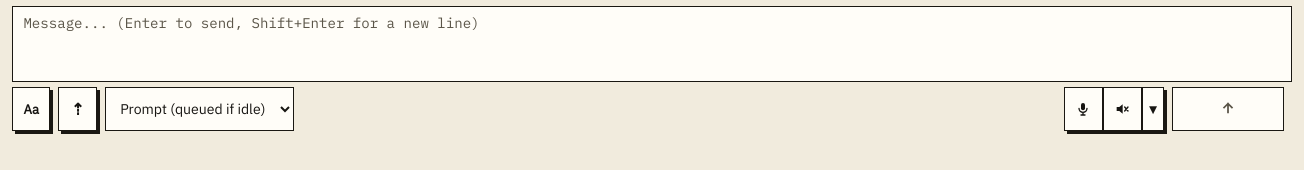
Test case: the mic button › a mid-recording error stops the mic and keeps the text
Press the mouse on the button named "Voice input" at (1083, 109), box top-left (1064, 87), bottom-right (1103, 131)
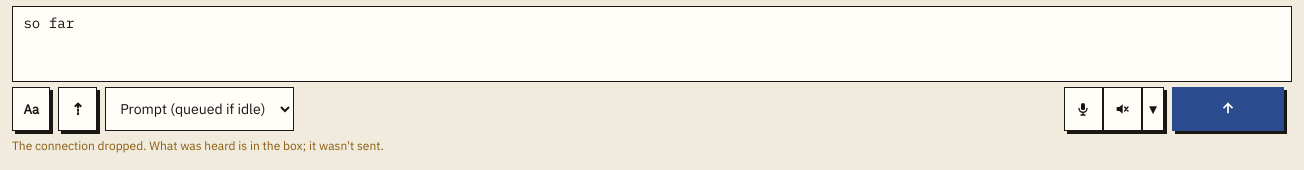
Expected: the text box named "Message" holds "so far", top-left (12, 6), bottom-right (1292, 82)
